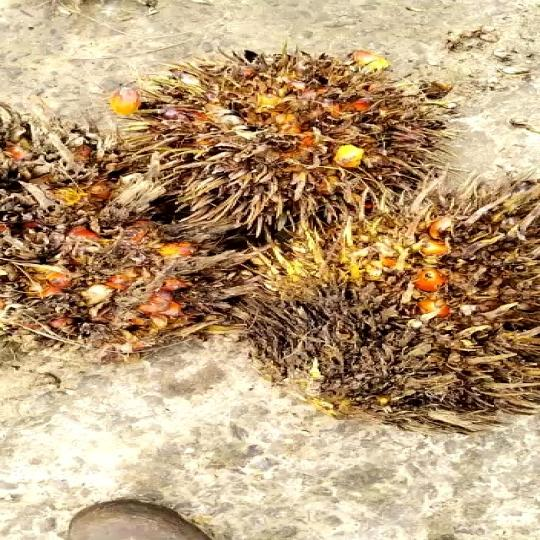terlalu masak: (213, 183, 540, 438), (103, 45, 446, 229)
